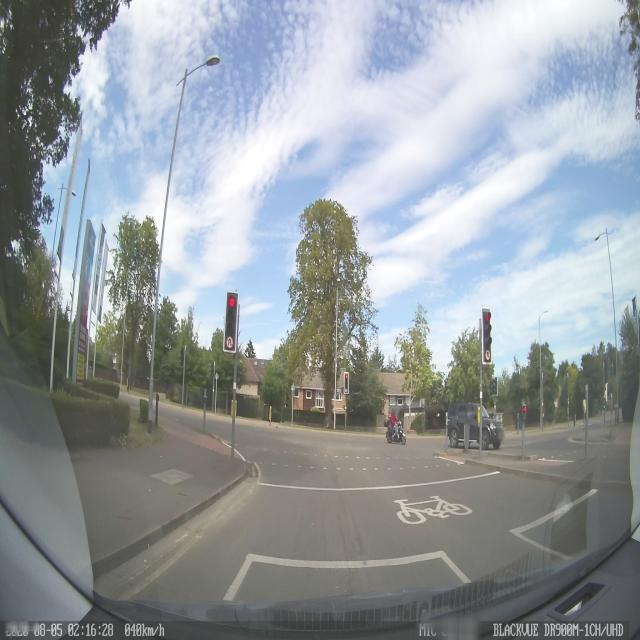bike: (385, 414, 406, 444)
car: (445, 401, 504, 450)
